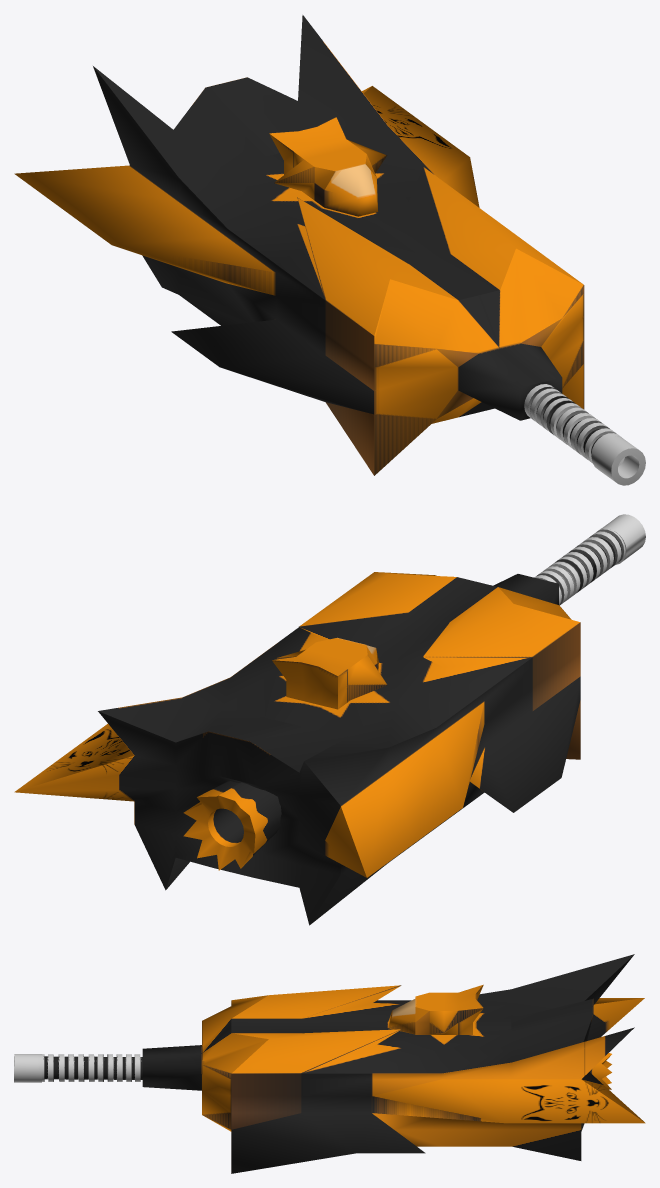
Rendered from partical ship.obj.
3 views of the same model, one above another, from view 1: azimuth 30°, elevation 25°; view 2: azimuth 150°, elevation 25°; view 3: azimuth 270°, elevation 25° (orthographic). The views are drawn at different scales.
Visible parts, largest first — view 1: partical_ship:pCube3; view 2: partical_ship:pCube3; view 3: partical_ship:pCube3.
Part boxes in pixels (bbox=[...]): partical_ship:pCube3: bbox=[14, 15, 645, 485]; partical_ship:pCube3: bbox=[14, 514, 645, 925]; partical_ship:pCube3: bbox=[14, 954, 645, 1173].
Size of the model in its own units: 17.34 by 9.44 by 36.9.
